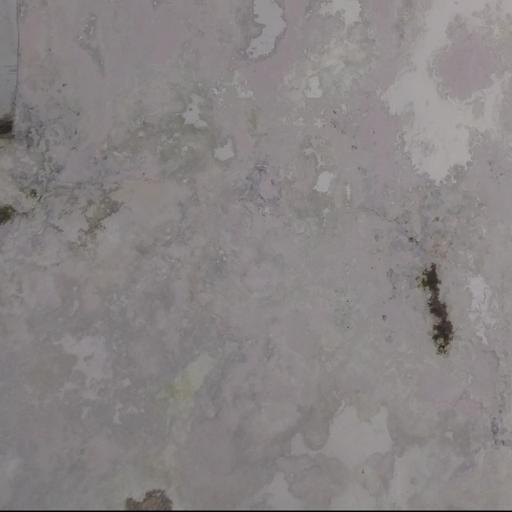peeling: (13, 8, 512, 512)
